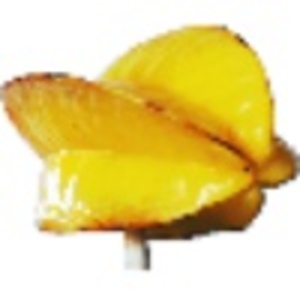carambola: (1, 24, 300, 271)
